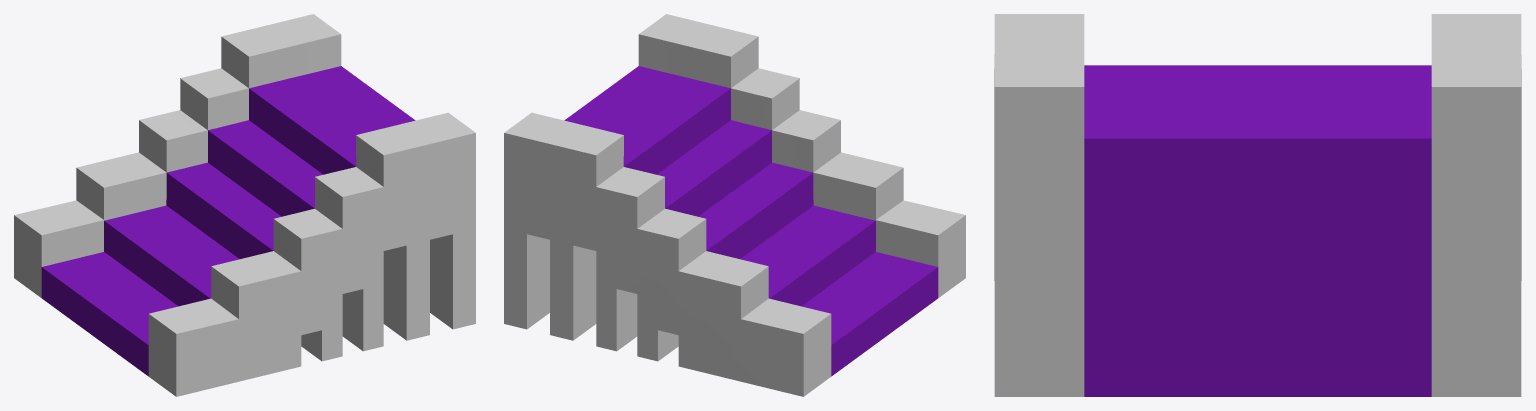
Rendered from Stair_01_low.fbx.
3 renders of one model, left to right at view 1: azimuth 30°, elevation 25°; view 2: azimuth 150°, elevation 25°; view 3: azimuth 270°, elevation 25°, orthographic. The views are drawn at different scales.
Visible parts, largest first — view 1: Stair01_low; view 2: Stair01_low; view 3: Stair01_low.
Part boxes in pixels (x1,y1,x2,y2): Stair01_low: (14,14,475,396); Stair01_low: (504,14,965,396); Stair01_low: (994,14,1521,396).
Size of the model in its own units: 58.52 by 55 by 35.66.
